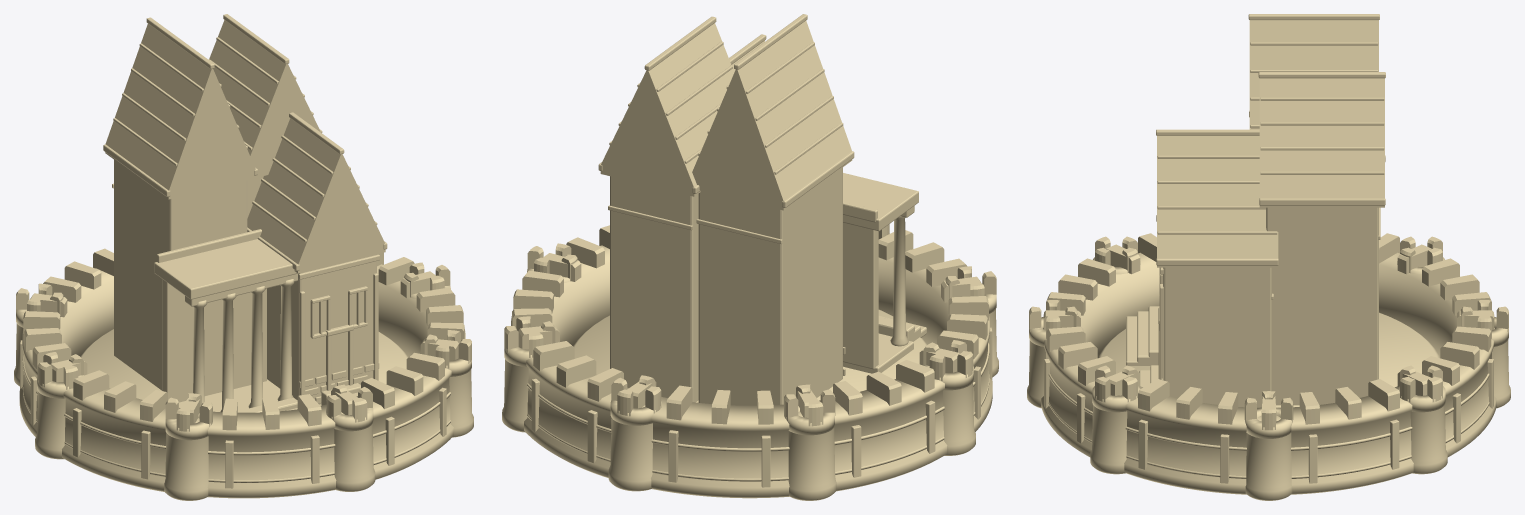
Rendered from city-with-wall-beige.fbx.
3 renders of one model, left to right at view 1: azimuth 30°, elevation 25°; view 2: azimuth 150°, elevation 25°; view 3: azimuth 270°, elevation 25°, orthographic. The views are drawn at different scales.
Visible parts, largest first — view 1: Combined_City_Body, Combined_Independent_City_Wall; view 2: Combined_City_Body, Combined_Independent_City_Wall; view 3: Combined_City_Body, Combined_Independent_City_Wall.
Part boxes in pixels (x1,y1,x2,y2): Combined_City_Body: (80, 14, 408, 412); Combined_Independent_City_Wall: (14, 248, 473, 500); Combined_City_Body: (573, 14, 927, 405); Combined_Independent_City_Wall: (502, 224, 998, 500); Combined_City_Body: (1098, 14, 1439, 407); Combined_Independent_City_Wall: (1027, 233, 1510, 500).
Size of the model in its own units: 0.024 by 0.02 by 0.024.
